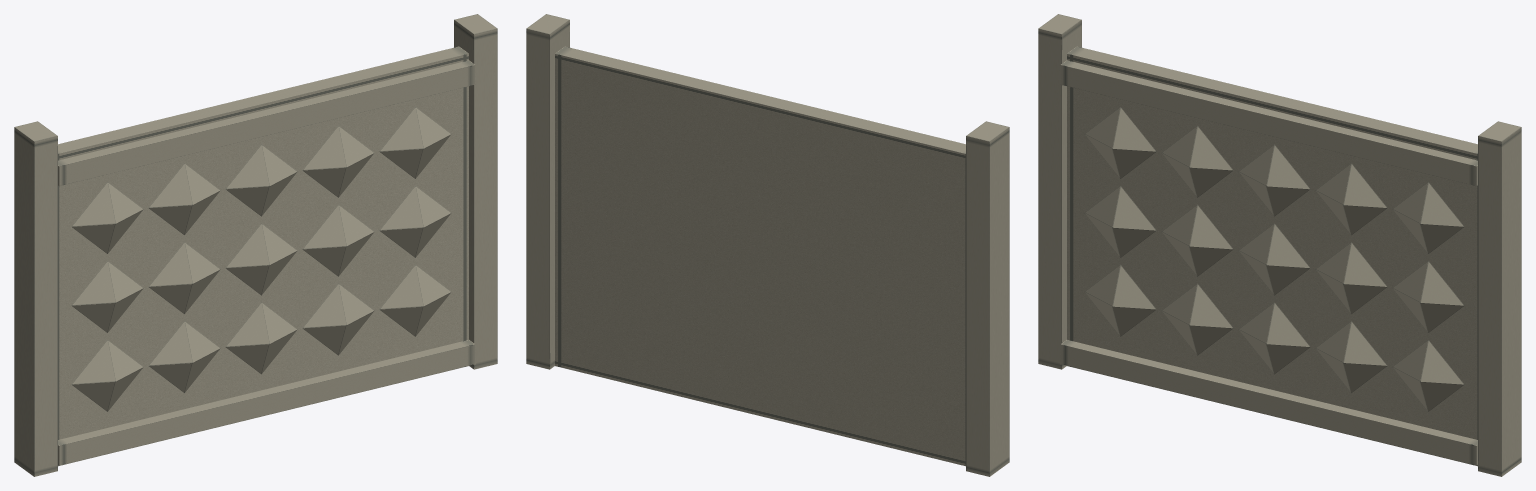
File: CIS_ConcreteFence.obj
3 renders of one model, left to right at view 1: azimuth 30°, elevation 25°; view 2: azimuth 150°, elevation 25°; view 3: azimuth 330°, elevation 25°, orthographic.
Parts seen in each view (by area): view 1: CIS_ConcreteFence; view 2: CIS_ConcreteFence; view 3: CIS_ConcreteFence.
Boxes of the visible parts, bbox=[...] form: CIS_ConcreteFence: bbox=[14, 14, 497, 476]; CIS_ConcreteFence: bbox=[526, 14, 1009, 476]; CIS_ConcreteFence: bbox=[1038, 14, 1521, 476].
Bounding box in the file's own units: 2.95 × 2.04 × 0.26.
Materials: 1 (1 with a texture image).
